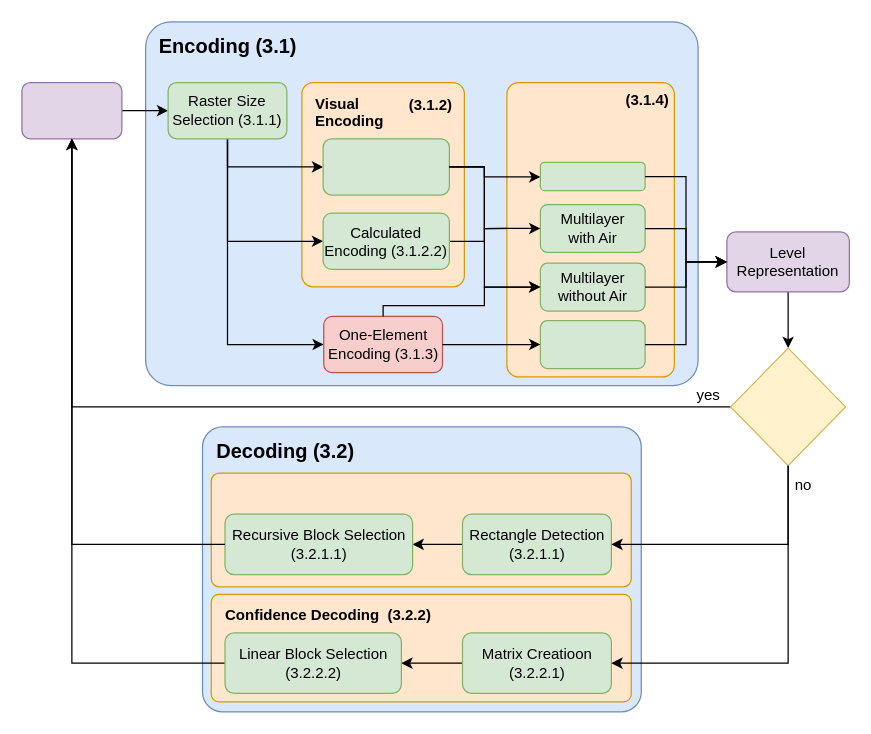
Image size: 871x734. Some labels were removed from this diagram. Each missing label, with the box of its shape:
Dot Encoding (3.1.2.1): (322, 138, 449, 195)
Multilayer Representation: (506, 81, 674, 377)
Recursive Rectangle Decoding (3.2.1): (210, 472, 631, 587)
Single Layer: (539, 161, 645, 191)
True One Hot: (539, 319, 645, 368)
Uses One-Element Encoding: (729, 347, 846, 466)
XML Level Description: (21, 81, 122, 139)
